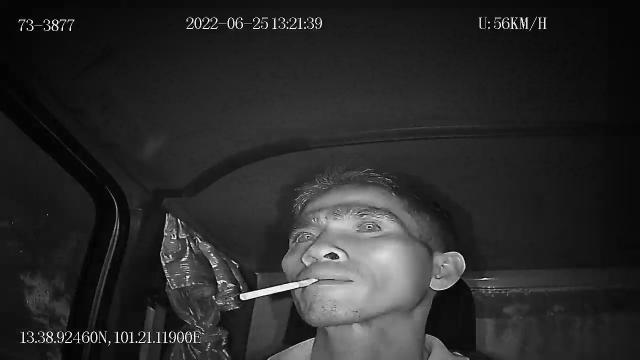SafeDriving: (342, 213, 390, 239), (286, 223, 322, 249)
Smoking: (239, 278, 319, 302)
